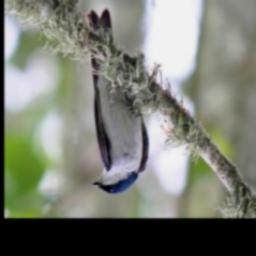Swallow: (84, 7, 150, 197)
